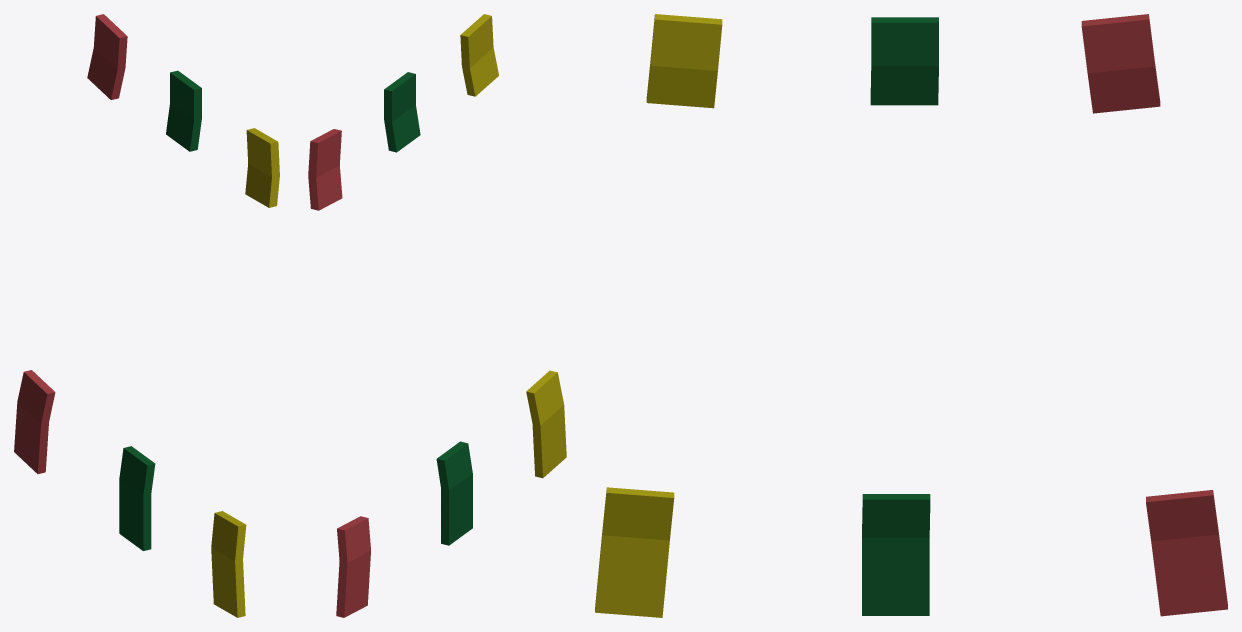
File: shini.fbx
The picture shows the model from 3 angles, left to right: view 1: azimuth 30°, elevation 25°; view 2: azimuth 150°, elevation 25°; view 3: azimuth 270°, elevation 25°; orthographic projection. The views are drawn at different scales.
Parts seen in each view (by area): view 1: shina_a, shina_c, shina_b; view 2: shina_c, shina_a, shina_b; view 3: shina_c, shina_a, shina_b.
Boxes of the visible parts, x1,y1,x2,y2 form: shina_a: (14,14,127,473); shina_c: (211,128,279,617); shina_b: (119,70,201,550); shina_c: (460,14,566,478); shina_a: (308,129,370,617); shina_b: (384,72,472,545); shina_c: (595,14,722,617); shina_a: (1081,14,1227,616); shina_b: (862,17,938,615).
Size of the model in its own units: 0.0454 by 0.3144 by 0.2836.
1 material, 1 textured.
